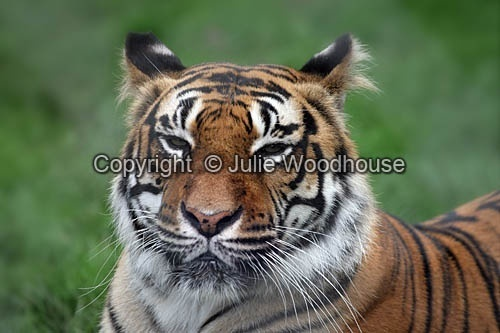tigre: (86, 27, 497, 333)
